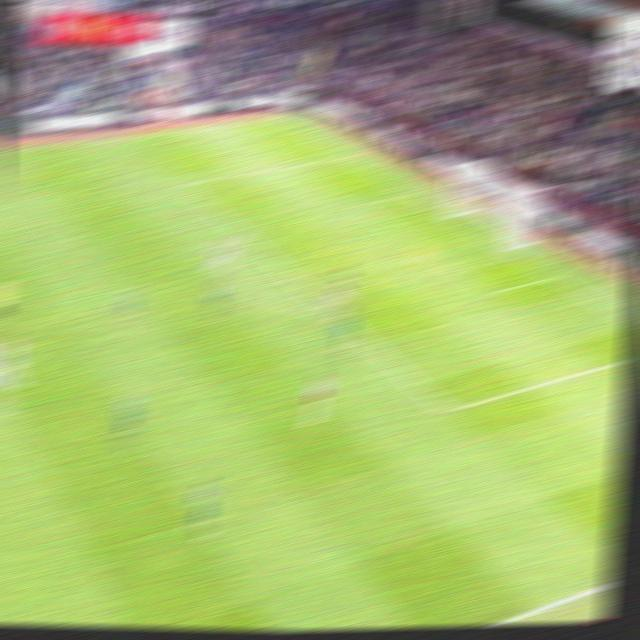bigarea_bottom_inner: (437, 402, 460, 423)
bigarea_top_inner: (174, 178, 195, 192)
bigarea_top_outter: (337, 154, 356, 160)
bottom_arc_area_intersection: (325, 308, 348, 323)
corner: (270, 116, 291, 124)
smallarea_bottom_inner: (482, 288, 501, 298)
smallarea_bottom_outter: (542, 273, 563, 283)
smallarea_top_inner: (348, 201, 368, 212)
smallarea_top_outter: (402, 191, 420, 200)
top_arc_area_intersection: (232, 229, 255, 241)
